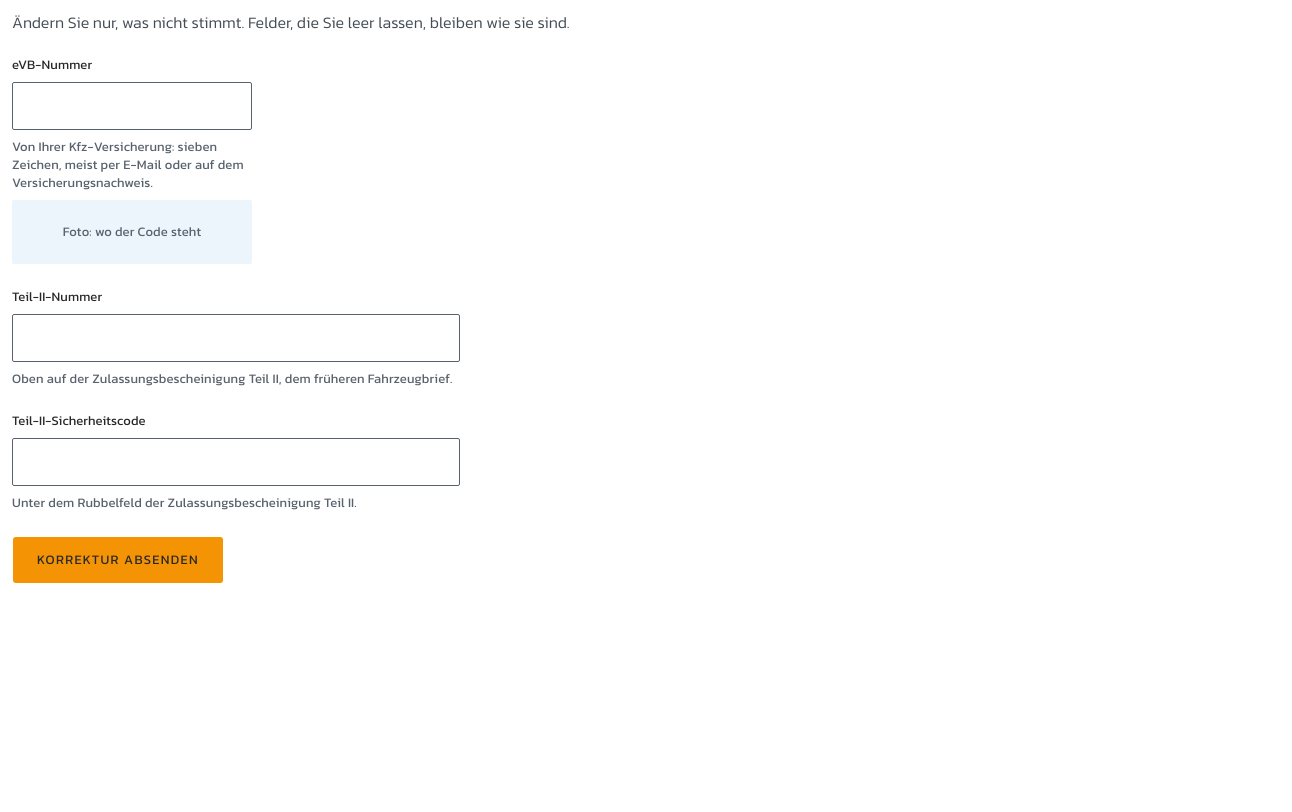
it: CorrectNewRegistration › tells the customer {"status":"refused"}, and leaves what they typed
In the field labelled "Teil-II-Nummer": x=236, y=338 left=12, top=314, right=460, bottom=362, type "FAKE0002"
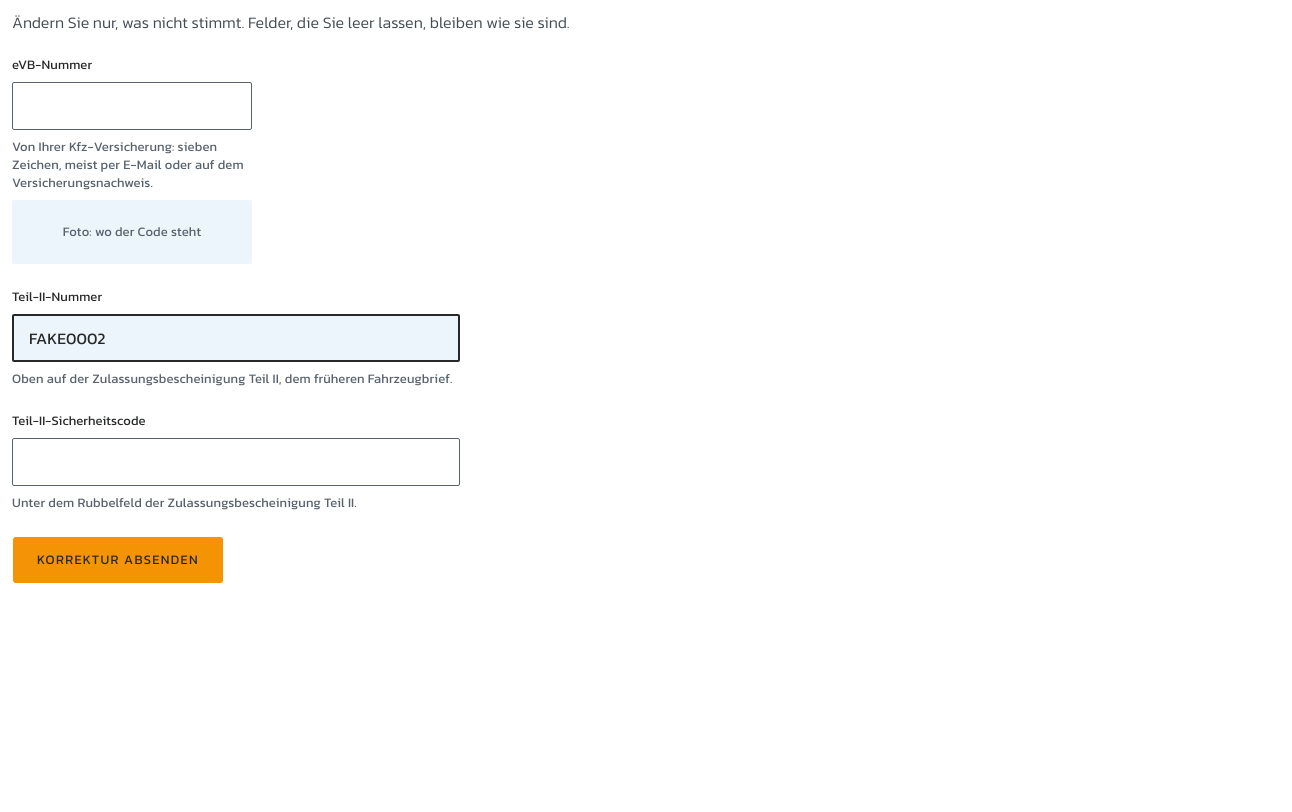
Click the button "Korrektur absenden": x=118, y=560 left=12, top=536, right=224, bottom=584
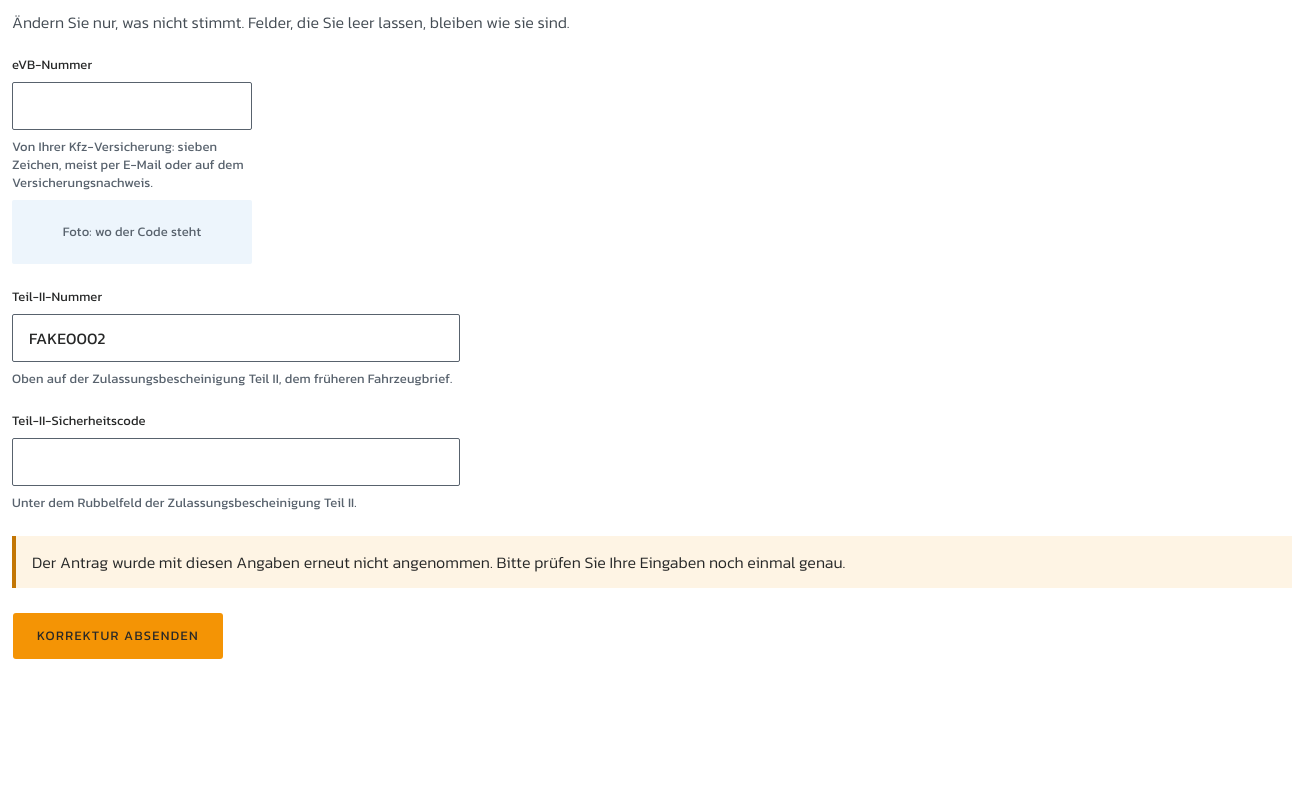
Result: the message shows "nicht angenommen" at left=32, top=550, right=845, bottom=574
